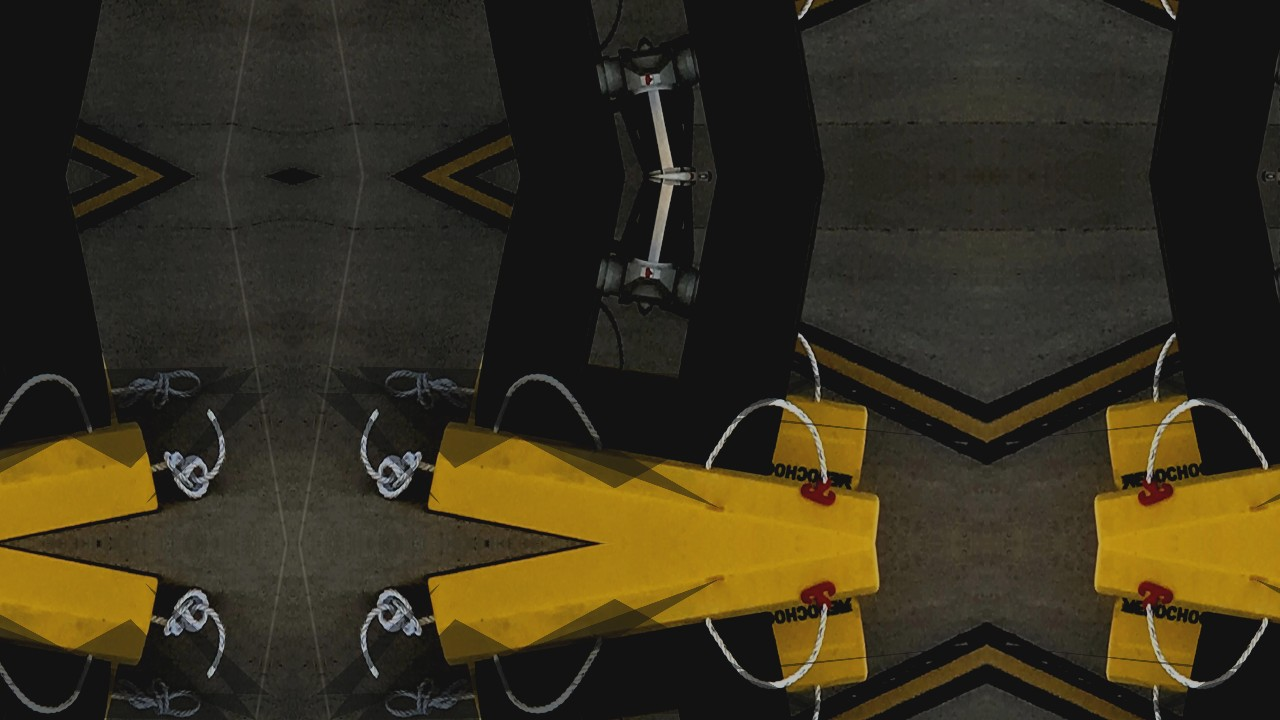chock: (463, 343, 874, 489), (423, 415, 885, 544), (423, 544, 885, 673), (463, 598, 874, 720), (1100, 343, 1280, 489), (1089, 415, 1280, 544), (1089, 544, 1280, 673), (1100, 598, 1280, 720), (0, 415, 162, 544), (0, 544, 162, 673), (0, 343, 122, 489), (0, 598, 122, 720), (463, 0, 874, 10)
wheel: (666, 176, 839, 477), (472, 176, 641, 444), (1135, 176, 1280, 477), (666, 0, 839, 176), (0, 176, 113, 444), (472, 0, 641, 176), (1135, 0, 1280, 176), (0, 0, 113, 176), (666, 611, 839, 720), (1135, 611, 1280, 720), (472, 643, 641, 720), (0, 643, 113, 720)
